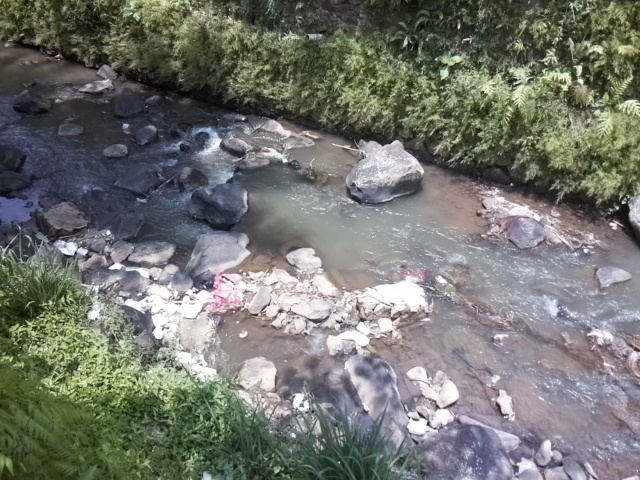Sampah_Plastik: (211, 274, 245, 318), (189, 268, 216, 293)
Sampah_Styrofoam: (144, 284, 202, 329)
